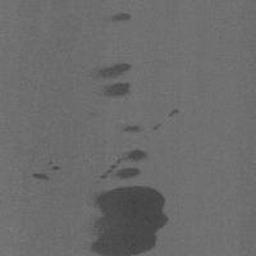Oil spot: (84, 146, 170, 256), (87, 61, 133, 101), (109, 10, 132, 24), (118, 123, 146, 134), (31, 172, 51, 183), (46, 160, 61, 172), (166, 108, 179, 118), (152, 122, 164, 132)
